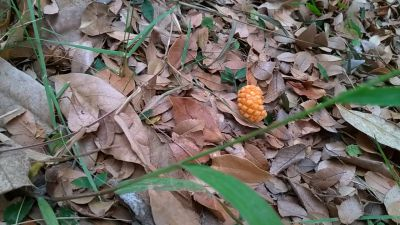eggs: (233, 83, 270, 124)
